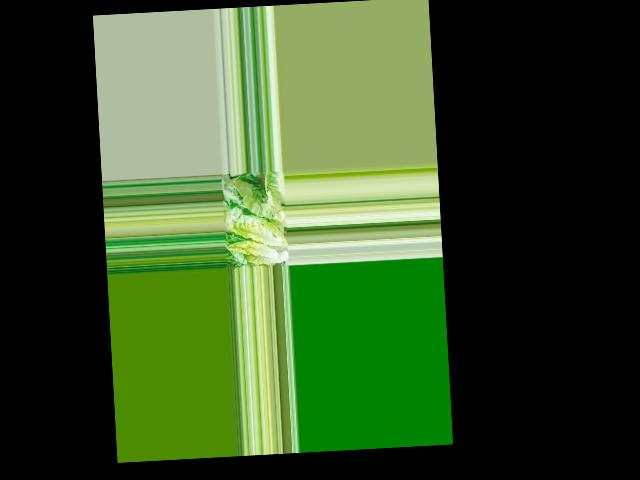lettuce: (227, 203, 289, 267)
